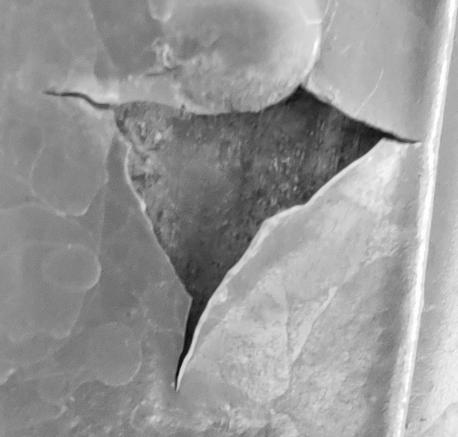paint-off: (0, 1, 458, 437)
